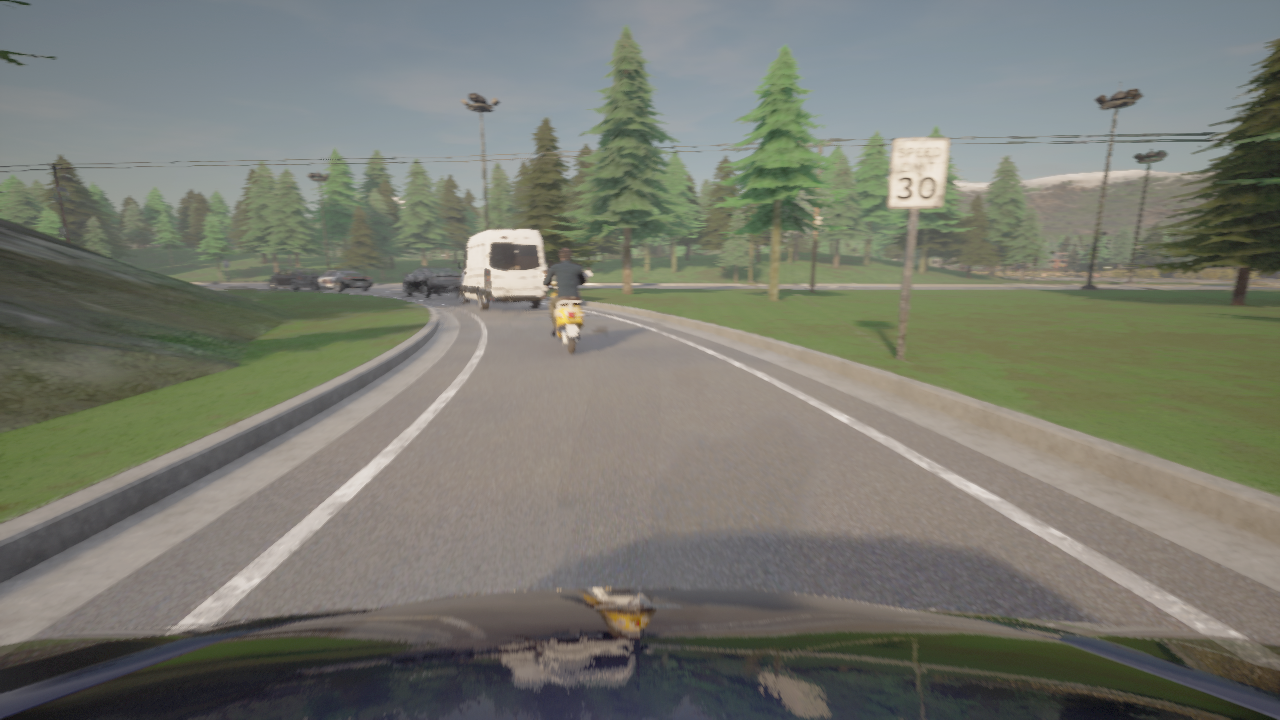cyclist: (0, 588, 1279, 719), (456, 229, 546, 310), (538, 271, 590, 354), (403, 267, 460, 298), (310, 268, 373, 292), (269, 269, 316, 290)
